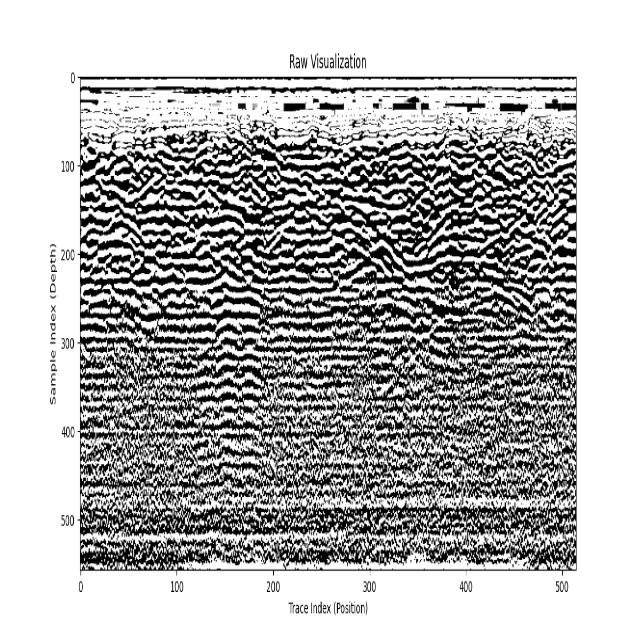anomaly: (212, 273, 264, 488)
